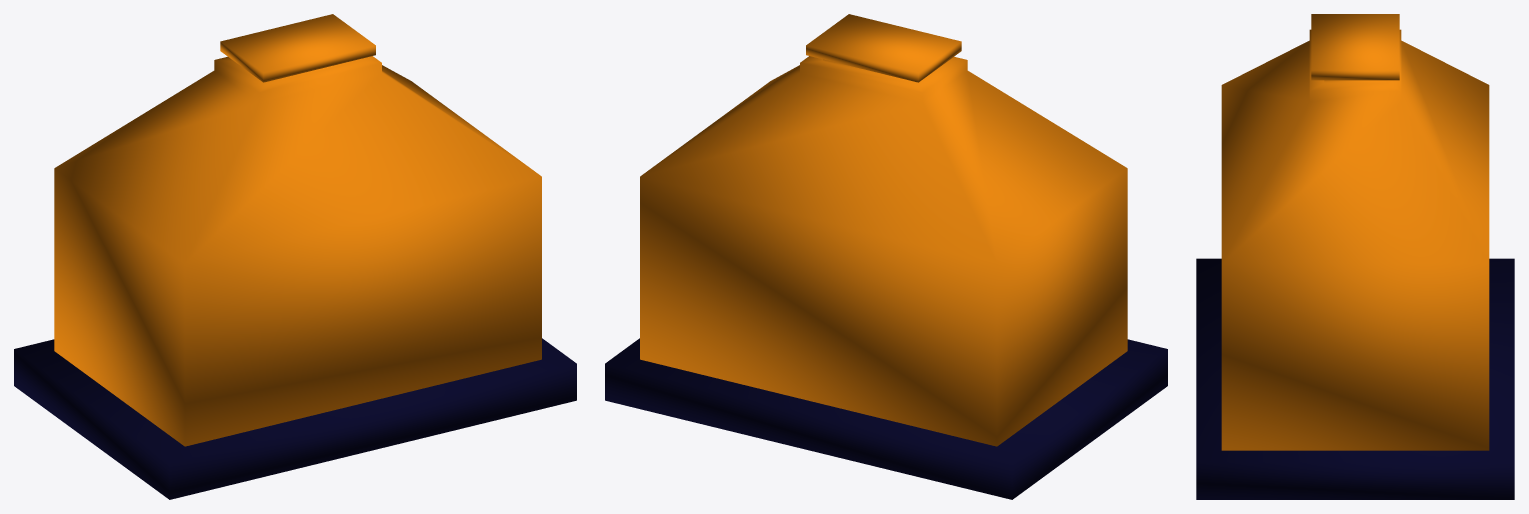
File: Industrial_Tank.fbx
The picture shows the model from 3 angles, left to right: view 1: azimuth 30°, elevation 25°; view 2: azimuth 150°, elevation 25°; view 3: azimuth 270°, elevation 25°; orthographic projection. The views are drawn at different scales.
Parts seen in each view (by area): view 1: Cube.010; view 2: Cube.010; view 3: Cube.010.
Boxes of the visible parts, box(x1,y1,x2,y2) form: Cube.010: box(14, 14, 576, 499); Cube.010: box(605, 14, 1167, 499); Cube.010: box(1196, 14, 1514, 499).
Size of the model in its own units: 171 by 140 by 113.
